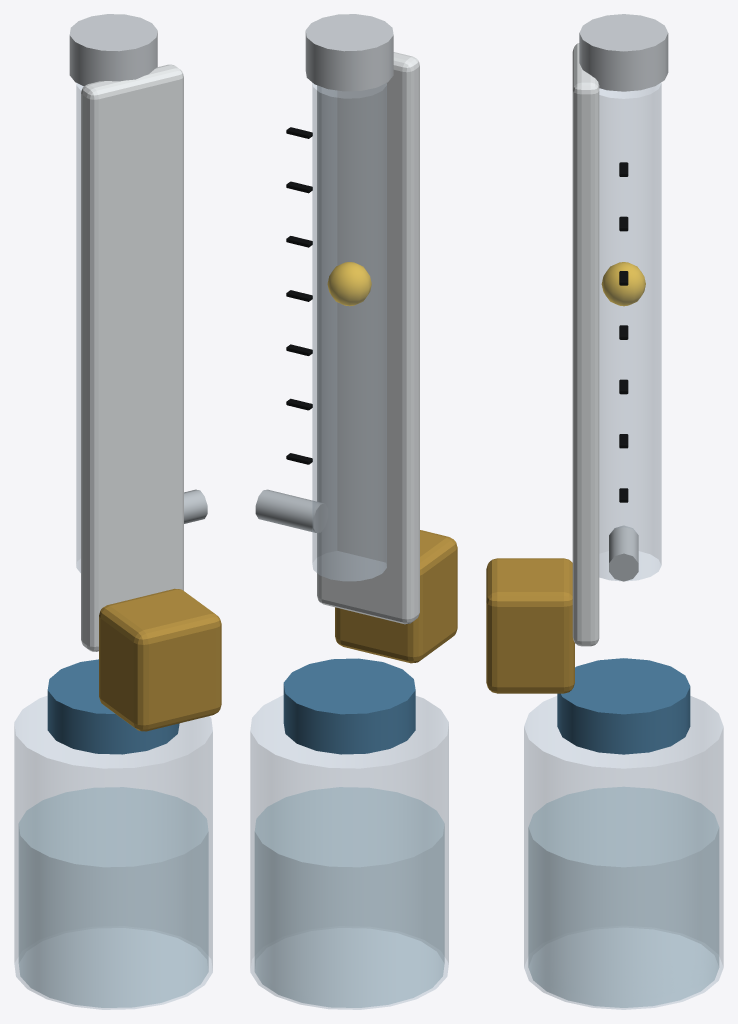
Rendered from Oxygen_Flowmeter.glb.
3 views of the same model, side by side, from view 1: azimuth 30°, elevation 25°; view 2: azimuth 150°, elevation 25°; view 3: azimuth 270°, elevation 25° (orthographic).
Visible parts, largest first — view 1: BackPlate, Bottle, Water, PlugBlock, BottleCap, Knob.001, Tube, Nipple; view 2: BackPlate, Bottle, Water, Tube, BottleCap, PlugBlock, Knob.001, Nipple, Float; view 3: Bottle, Water, Tube, BackPlate, PlugBlock, BottleCap, Knob.001, Nipple, Float.
Boxes of the visible parts, x1,y1,x2,y2 form: BackPlate: (81, 64, 183, 651); Bottle: (14, 696, 212, 1009); Water: (18, 787, 208, 1007); PlugBlock: (99, 588, 221, 731); BottleCap: (47, 659, 179, 754); Knob.001: (69, 14, 157, 86); Tube: (76, 83, 83, 572); Nipple: (184, 489, 207, 523); BackPlate: (317, 52, 419, 624); Bottle: (250, 695, 448, 1009); Water: (254, 787, 444, 1007); Tube: (312, 83, 386, 581); BottleCap: (283, 658, 415, 754); PlugBlock: (335, 530, 457, 663); Knob.001: (305, 14, 393, 91); Nipple: (255, 489, 328, 532); Float: (327, 262, 371, 306); Bottle: (524, 696, 723, 1009); Water: (528, 786, 719, 1007); Tube: (599, 83, 661, 581); BackPlate: (572, 43, 599, 646); PlugBlock: (486, 558, 574, 693); BottleCap: (557, 658, 690, 754); Knob.001: (579, 14, 668, 91); Nipple: (609, 525, 638, 581); Float: (601, 262, 645, 306).
Size of the model in its own units: 0.09 by 0.465 by 0.107.
